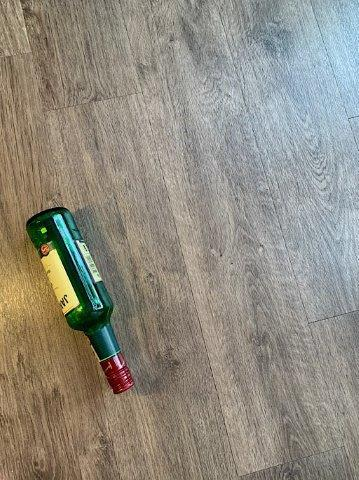botolkaca: (29, 207, 134, 393)
